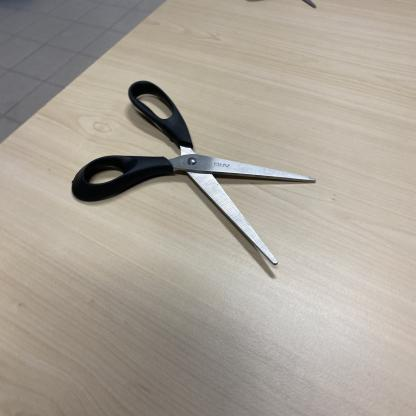scissors: (70, 76, 316, 270), (242, 0, 319, 15)
